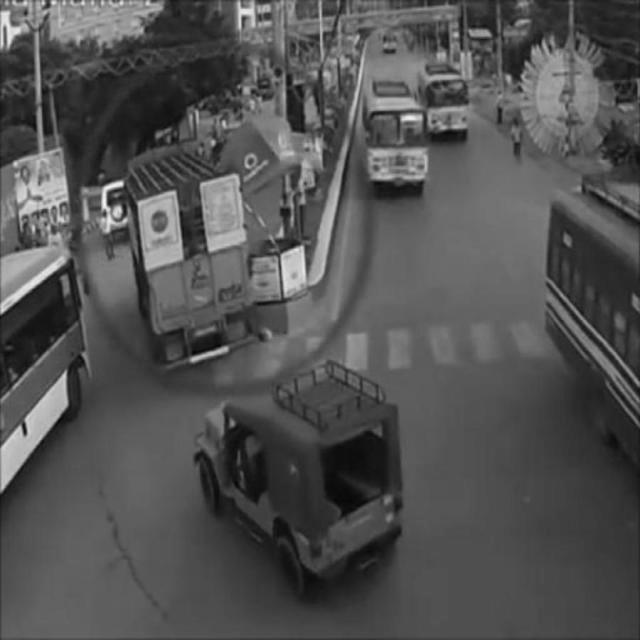vehicle: (203, 347, 407, 591), (545, 177, 639, 468), (128, 154, 246, 368), (365, 80, 427, 200), (416, 64, 470, 146), (99, 181, 129, 241)
